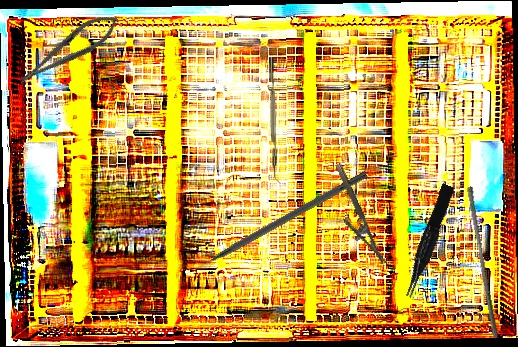Chopper: (268, 56, 283, 184)
Hook Surgical: (182, 169, 369, 279)
Needle Holder: (12, 6, 125, 93), (321, 162, 387, 272)
Pusher: (461, 186, 505, 339)
Tissue Forceps: (396, 183, 460, 299)
